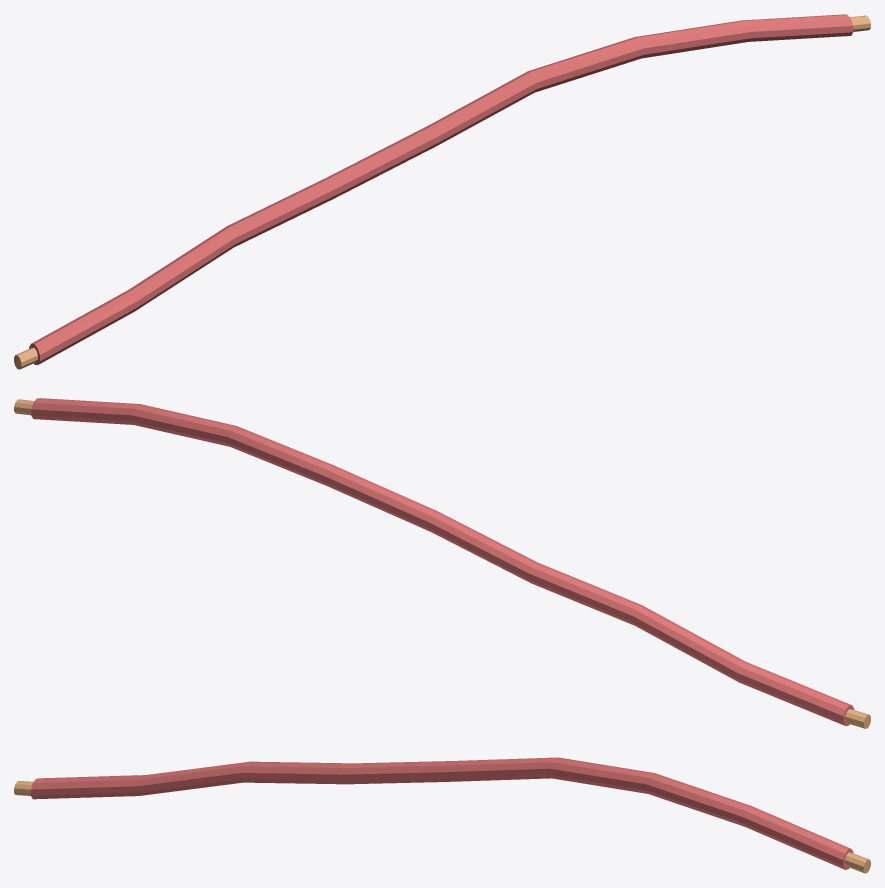
Rendered from Wire_1_Red.fbx.
3 views of the same model, one above another, from view 1: azimuth 30°, elevation 25°; view 2: azimuth 150°, elevation 25°; view 3: azimuth 330°, elevation 25° (orthographic). The views are drawn at different scales.
Visible parts, largest first — view 1: polySurface241; view 2: polySurface241; view 3: polySurface241.
Boxes of the visible parts, x1=… form: polySurface241: x1=14, y1=14, x2=870, y2=369; polySurface241: x1=14, y1=398, x2=870, y2=728; polySurface241: x1=14, y1=757, x2=870, y2=873.
Bounding box in the file's own units: 1.42 × 0.2624 × 0.0817.
